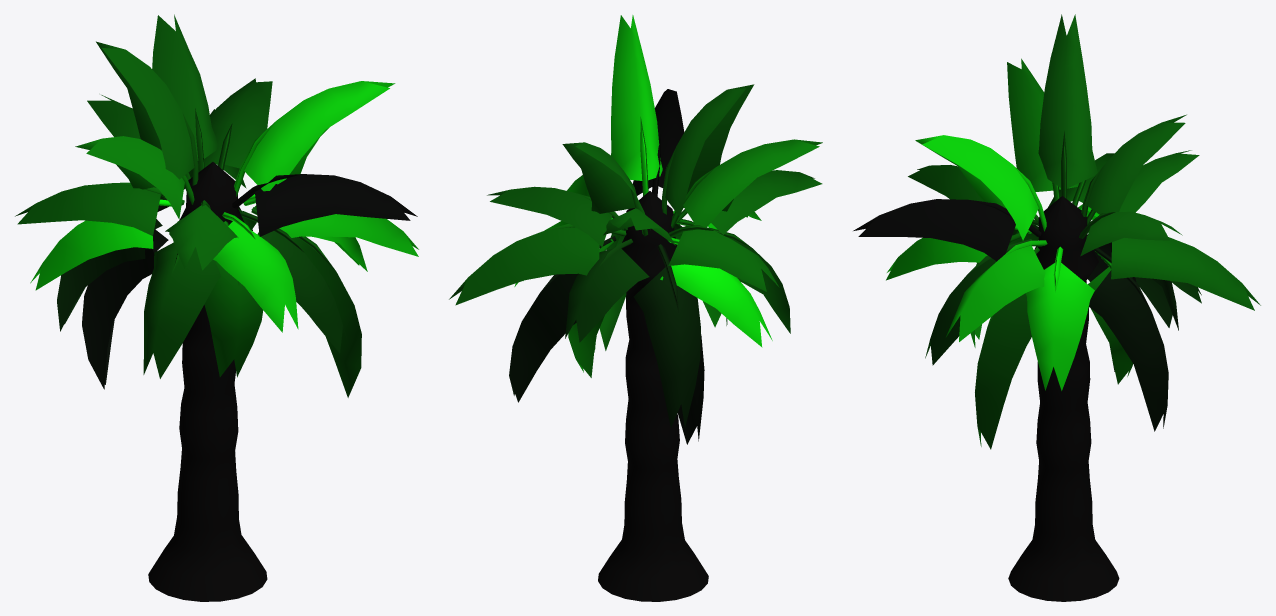
The model's file is M_P10_Tree_2.fbx.
The picture shows the model from 3 angles, left to right: view 1: azimuth 30°, elevation 25°; view 2: azimuth 150°, elevation 25°; view 3: azimuth 270°, elevation 25°; orthographic projection. The views are drawn at different scales.
Visible parts, largest first — view 1: Palm_1_2; view 2: Palm_1_2; view 3: Palm_1_2.
Boxes of the visible parts, left/top/right/bottom form: Palm_1_2: left=15, top=14, right=418, bottom=601; Palm_1_2: left=449, top=15, right=822, bottom=601; Palm_1_2: left=853, top=14, right=1260, bottom=601.
Size of the model in its own units: 261 by 436 by 313.
